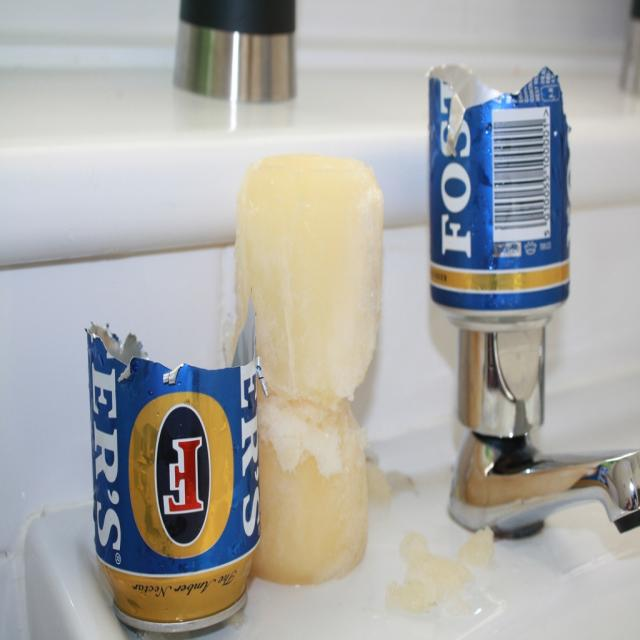fosters: (127, 389, 238, 562)
